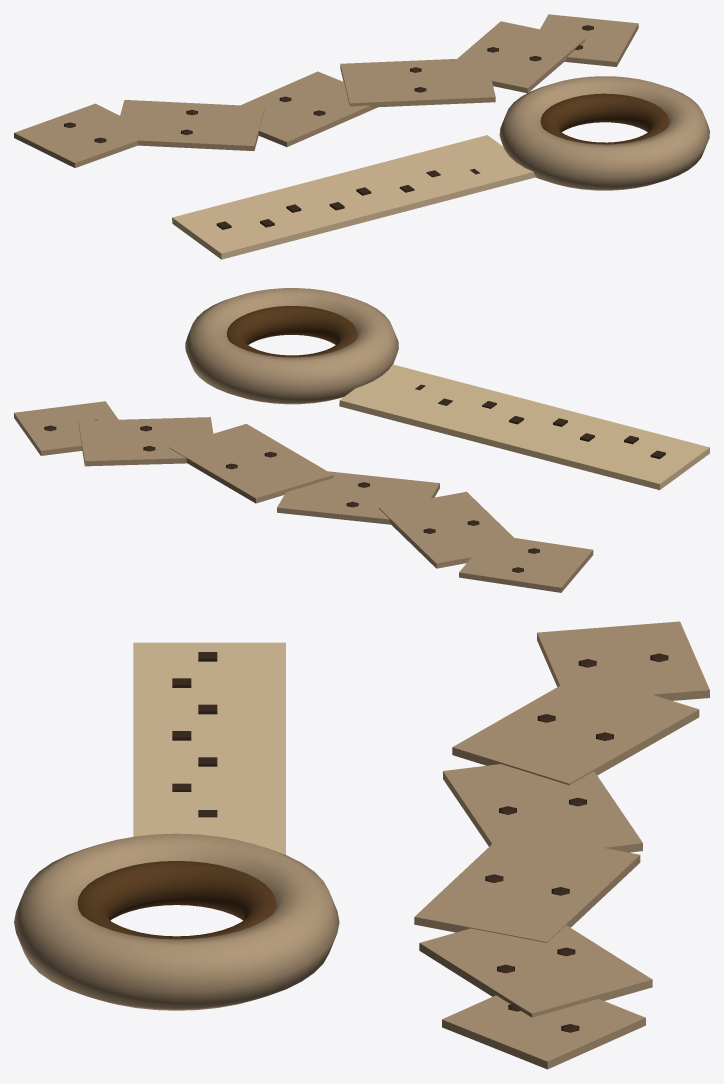
The model's file is mia-tape.glb.
3 renders of one model, top to bottom at view 1: azimuth 30°, elevation 25°; view 2: azimuth 150°, elevation 25°; view 3: azimuth 270°, elevation 25°, orthographic. The views are drawn at different scales.
Parts seen in each view (by area): view 1: Body_page-beige, Body_ivory, Body_wood, Body_grain; view 2: Body_page-beige, Body_ivory, Body_wood, Body_grain; view 3: Body_page-beige, Body_ivory, Body_wood, Body_grain.
Part boxes in pixels (<box>): Body_page-beige: <box>14,14,709,190</box>; Body_ivory: <box>172,135,535,259</box>; Body_wood: <box>540,93,668,144</box>; Body_grain: <box>64,25,593,229</box>; Body_page-beige: <box>14,288,593,592</box>; Body_ivory: <box>339,364,709,490</box>; Body_wood: <box>227,306,356,357</box>; Body_grain: <box>44,384,665,572</box>; Body_page-beige: <box>14,621,709,1069</box>; Body_ivory: <box>133,642,285,854</box>; Body_wood: <box>77,861,275,939</box>; Body_grain: <box>172,652,668,1032</box>.
Size of the model in its own units: 0.5994 by 0.0414 by 0.4019.
